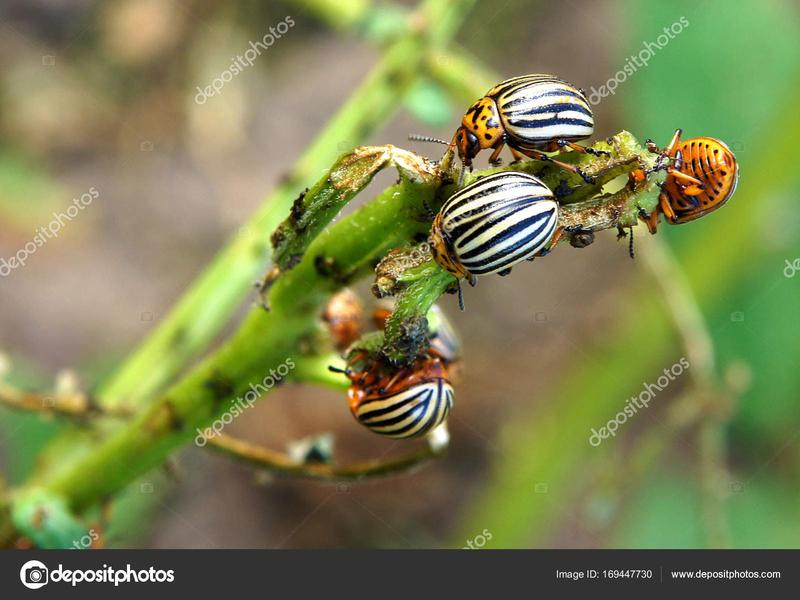hrosc: (415, 158, 578, 272), (435, 64, 605, 158), (333, 340, 463, 454), (648, 124, 747, 233)
